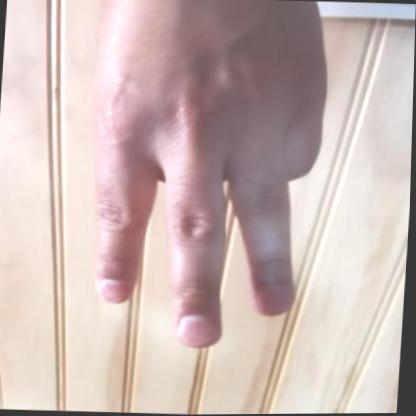M: (45, 0, 371, 372)
